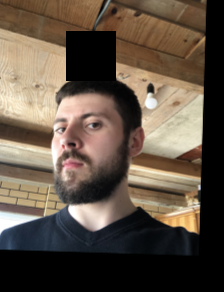without_mask: (50, 108, 118, 204)
